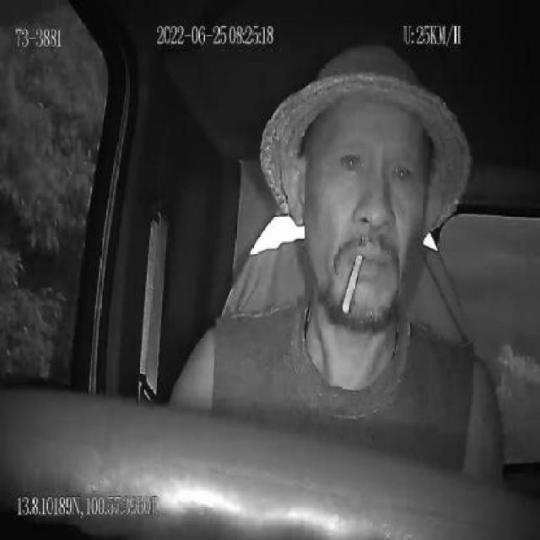smoking: (343, 251, 364, 320)
